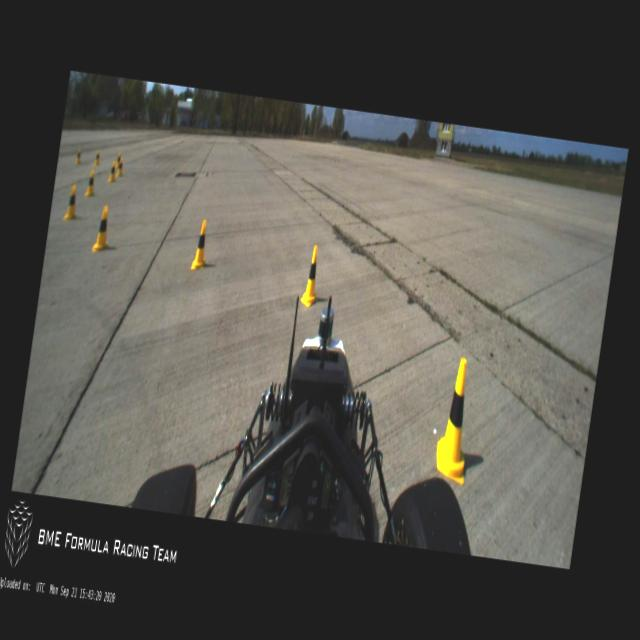yellow_cone: (432, 356, 481, 486), (300, 246, 325, 308), (190, 218, 213, 272), (92, 206, 114, 254), (63, 185, 81, 222), (85, 170, 97, 198), (108, 160, 118, 182), (116, 156, 124, 178), (75, 146, 83, 166), (115, 151, 122, 170), (94, 148, 101, 164)
